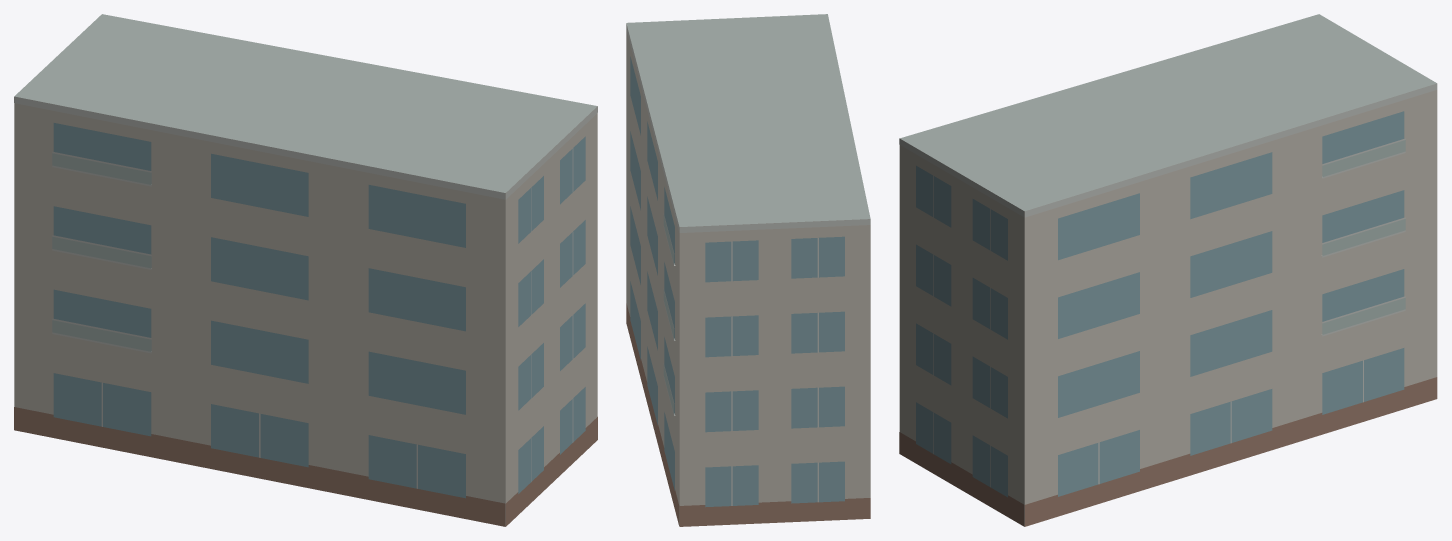
The model's file is survey-upis-32751562.glb.
The picture shows the model from 3 angles, left to right: view 1: azimuth 30°, elevation 25°; view 2: azimuth 150°, elevation 25°; view 3: azimuth 270°, elevation 25°; orthographic projection. The views are drawn at different scales.
Parts seen in each view (by area): view 1: survey-upis-32751562.tmp; view 2: survey-upis-32751562.tmp; view 3: survey-upis-32751562.tmp.
Boxes of the visible parts, x1=… form: survey-upis-32751562.tmp: x1=14, y1=14, x2=597, y2=526; survey-upis-32751562.tmp: x1=626, y1=14, x2=870, y2=526; survey-upis-32751562.tmp: x1=899, y1=14, x2=1437, y2=526.
Size of the model in its own units: 16.37 by 12.2 by 18.85.
